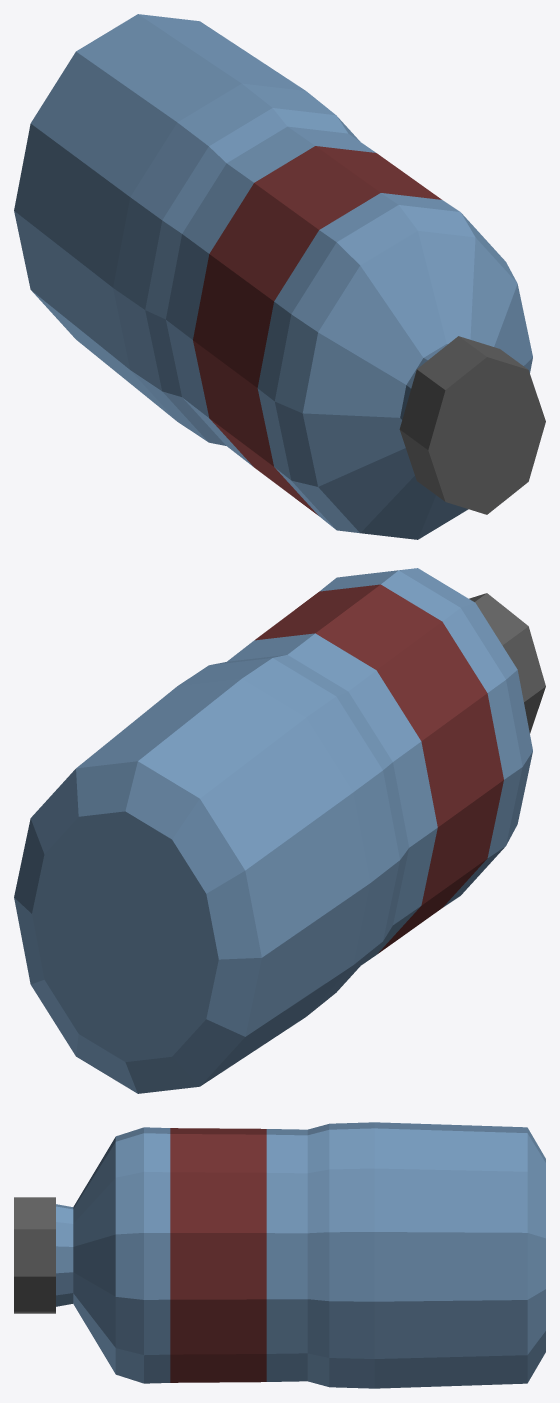
File: SM_BottlePlasticA.glb
3 views of the same model, one above another, from view 1: azimuth 30°, elevation 25°; view 2: azimuth 150°, elevation 25°; view 3: azimuth 270°, elevation 25° (orthographic). The views are drawn at different scales.
Parts seen in each view (by area): view 1: part_00, part_01, part_02; view 2: part_00, part_01, part_02; view 3: part_00, part_01, part_02.
Boxes of the visible parts, x1=… form: part_00: x1=14, y1=14, x2=532, y2=539; part_01: x1=193, y1=146, x2=441, y2=515; part_02: x1=399, y1=336, x2=545, y2=514; part_00: x1=14, y1=568, x2=532, y2=1093; part_01: x1=255, y1=584, x2=503, y2=954; part_02: x1=469, y1=593, x2=545, y2=733; part_00: x1=56, y1=1122, x2=545, y2=1388; part_01: x1=170, y1=1128, x2=266, y2=1382; part_02: x1=14, y1=1197, x2=55, y2=1313.
Size of the model in its own units: 0.1442 by 0.1849 by 0.3507.
